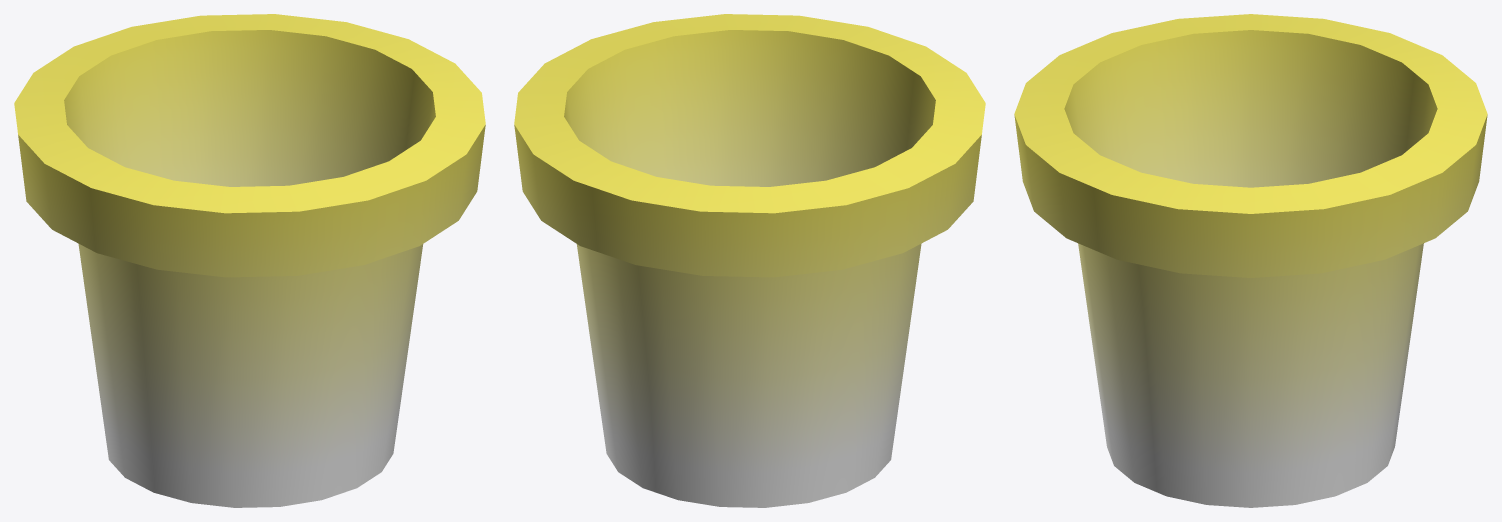
File: PlantPot_28.fbx
3 renders of one model, left to right at view 1: azimuth 30°, elevation 25°; view 2: azimuth 150°, elevation 25°; view 3: azimuth 270°, elevation 25°, orthographic.
Parts seen in each view (by area): view 1: PlantPot_28; view 2: PlantPot_28; view 3: PlantPot_28.
Part boxes in pixels (x1,y1,x2,y2): PlantPot_28: (14, 14, 485, 507); PlantPot_28: (514, 14, 985, 507); PlantPot_28: (1014, 14, 1487, 507).
Bounding box in the file's own units: 20.39 × 16.08 × 20.39.
